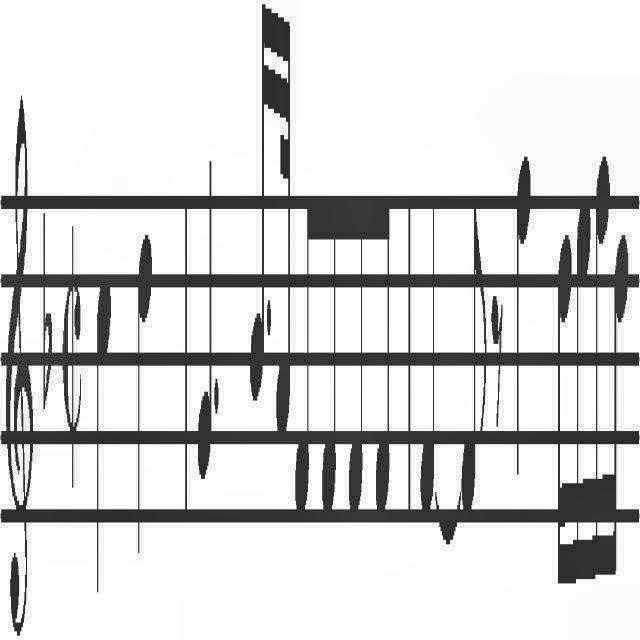Bass-clef: (6, 80, 36, 636)
Bemol: (42, 200, 54, 424)
Eighth-note: (461, 188, 487, 522), (294, 181, 314, 525), (348, 154, 364, 546), (320, 182, 336, 534), (376, 163, 390, 541)
Eighth-rest: (491, 284, 505, 438)
Quarter-note: (134, 218, 154, 566), (514, 137, 532, 499), (196, 142, 214, 486), (419, 173, 436, 522), (96, 252, 112, 604)
Sixteenth-note: (593, 147, 611, 607), (556, 229, 574, 607), (250, 0, 266, 408), (576, 203, 592, 609), (612, 219, 628, 616)
